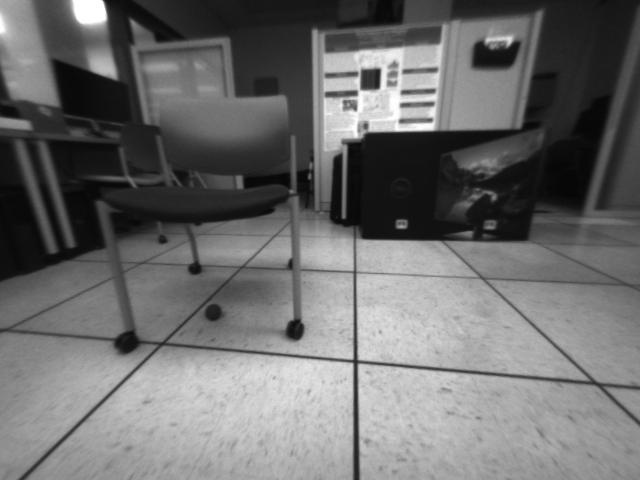dogtoy: (201, 300, 227, 323)
